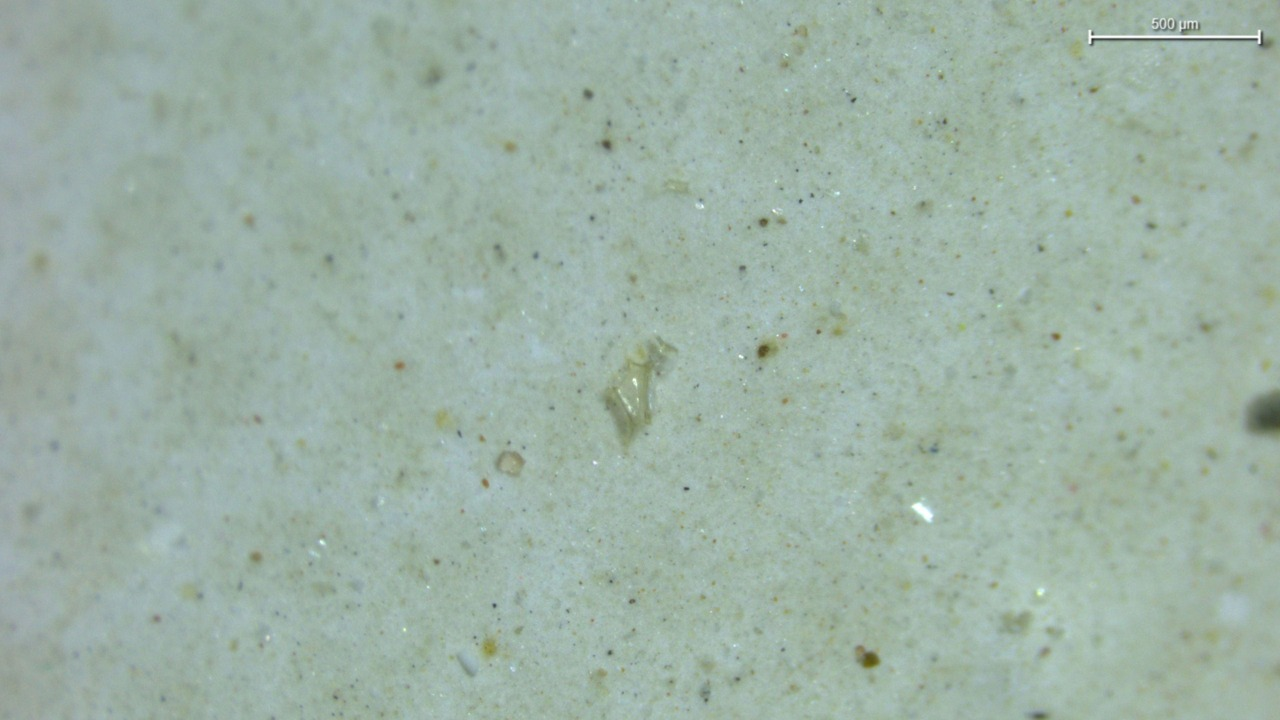microplastic_fragment: (604, 336, 678, 446), (496, 450, 525, 476)
